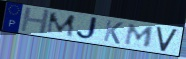H: (19, 7, 52, 35)
J: (75, 16, 101, 41)
K: (102, 19, 125, 45)
M: (45, 11, 77, 38), (124, 23, 156, 49)
V: (156, 26, 179, 53)
